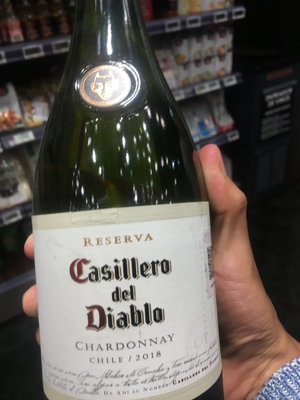casillero del diablo chardonnay: (27, 6, 226, 400)
